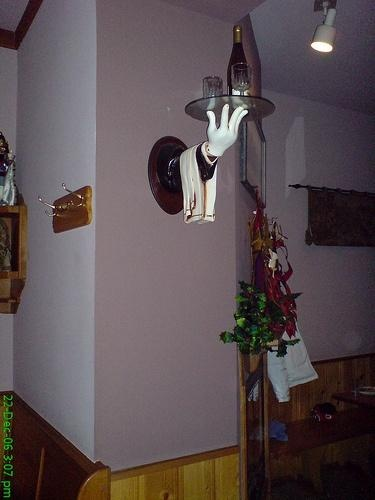bottle: (227, 25, 255, 112)
